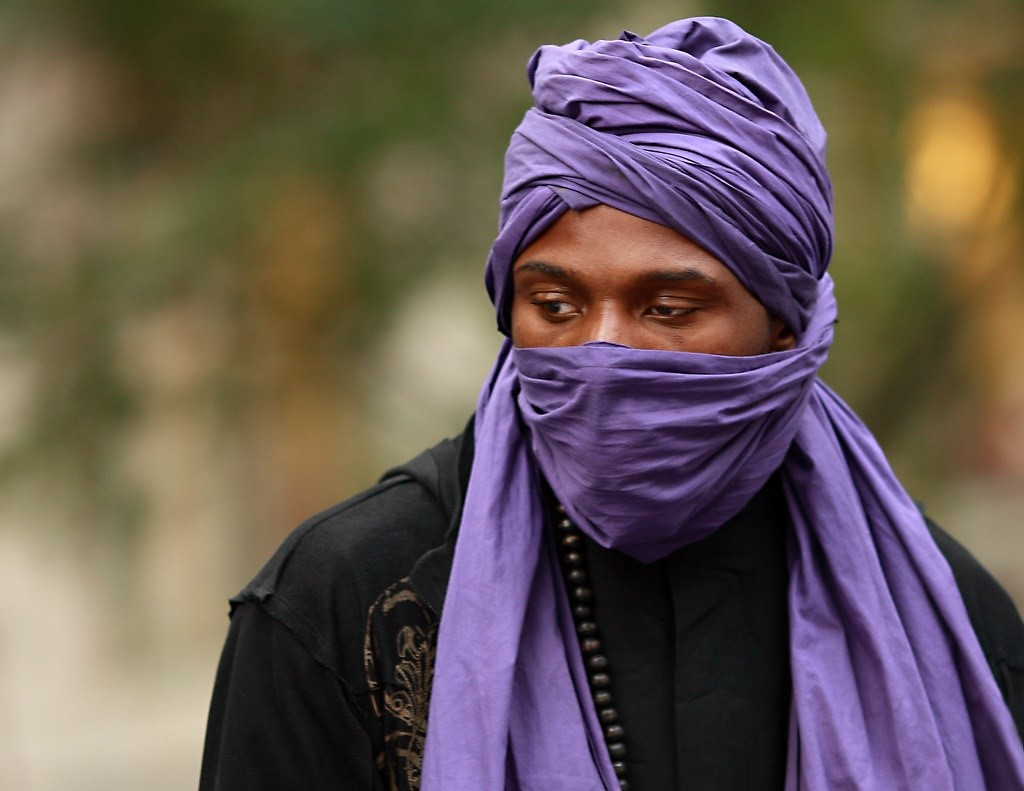face_with_mask: (491, 53, 820, 512)
